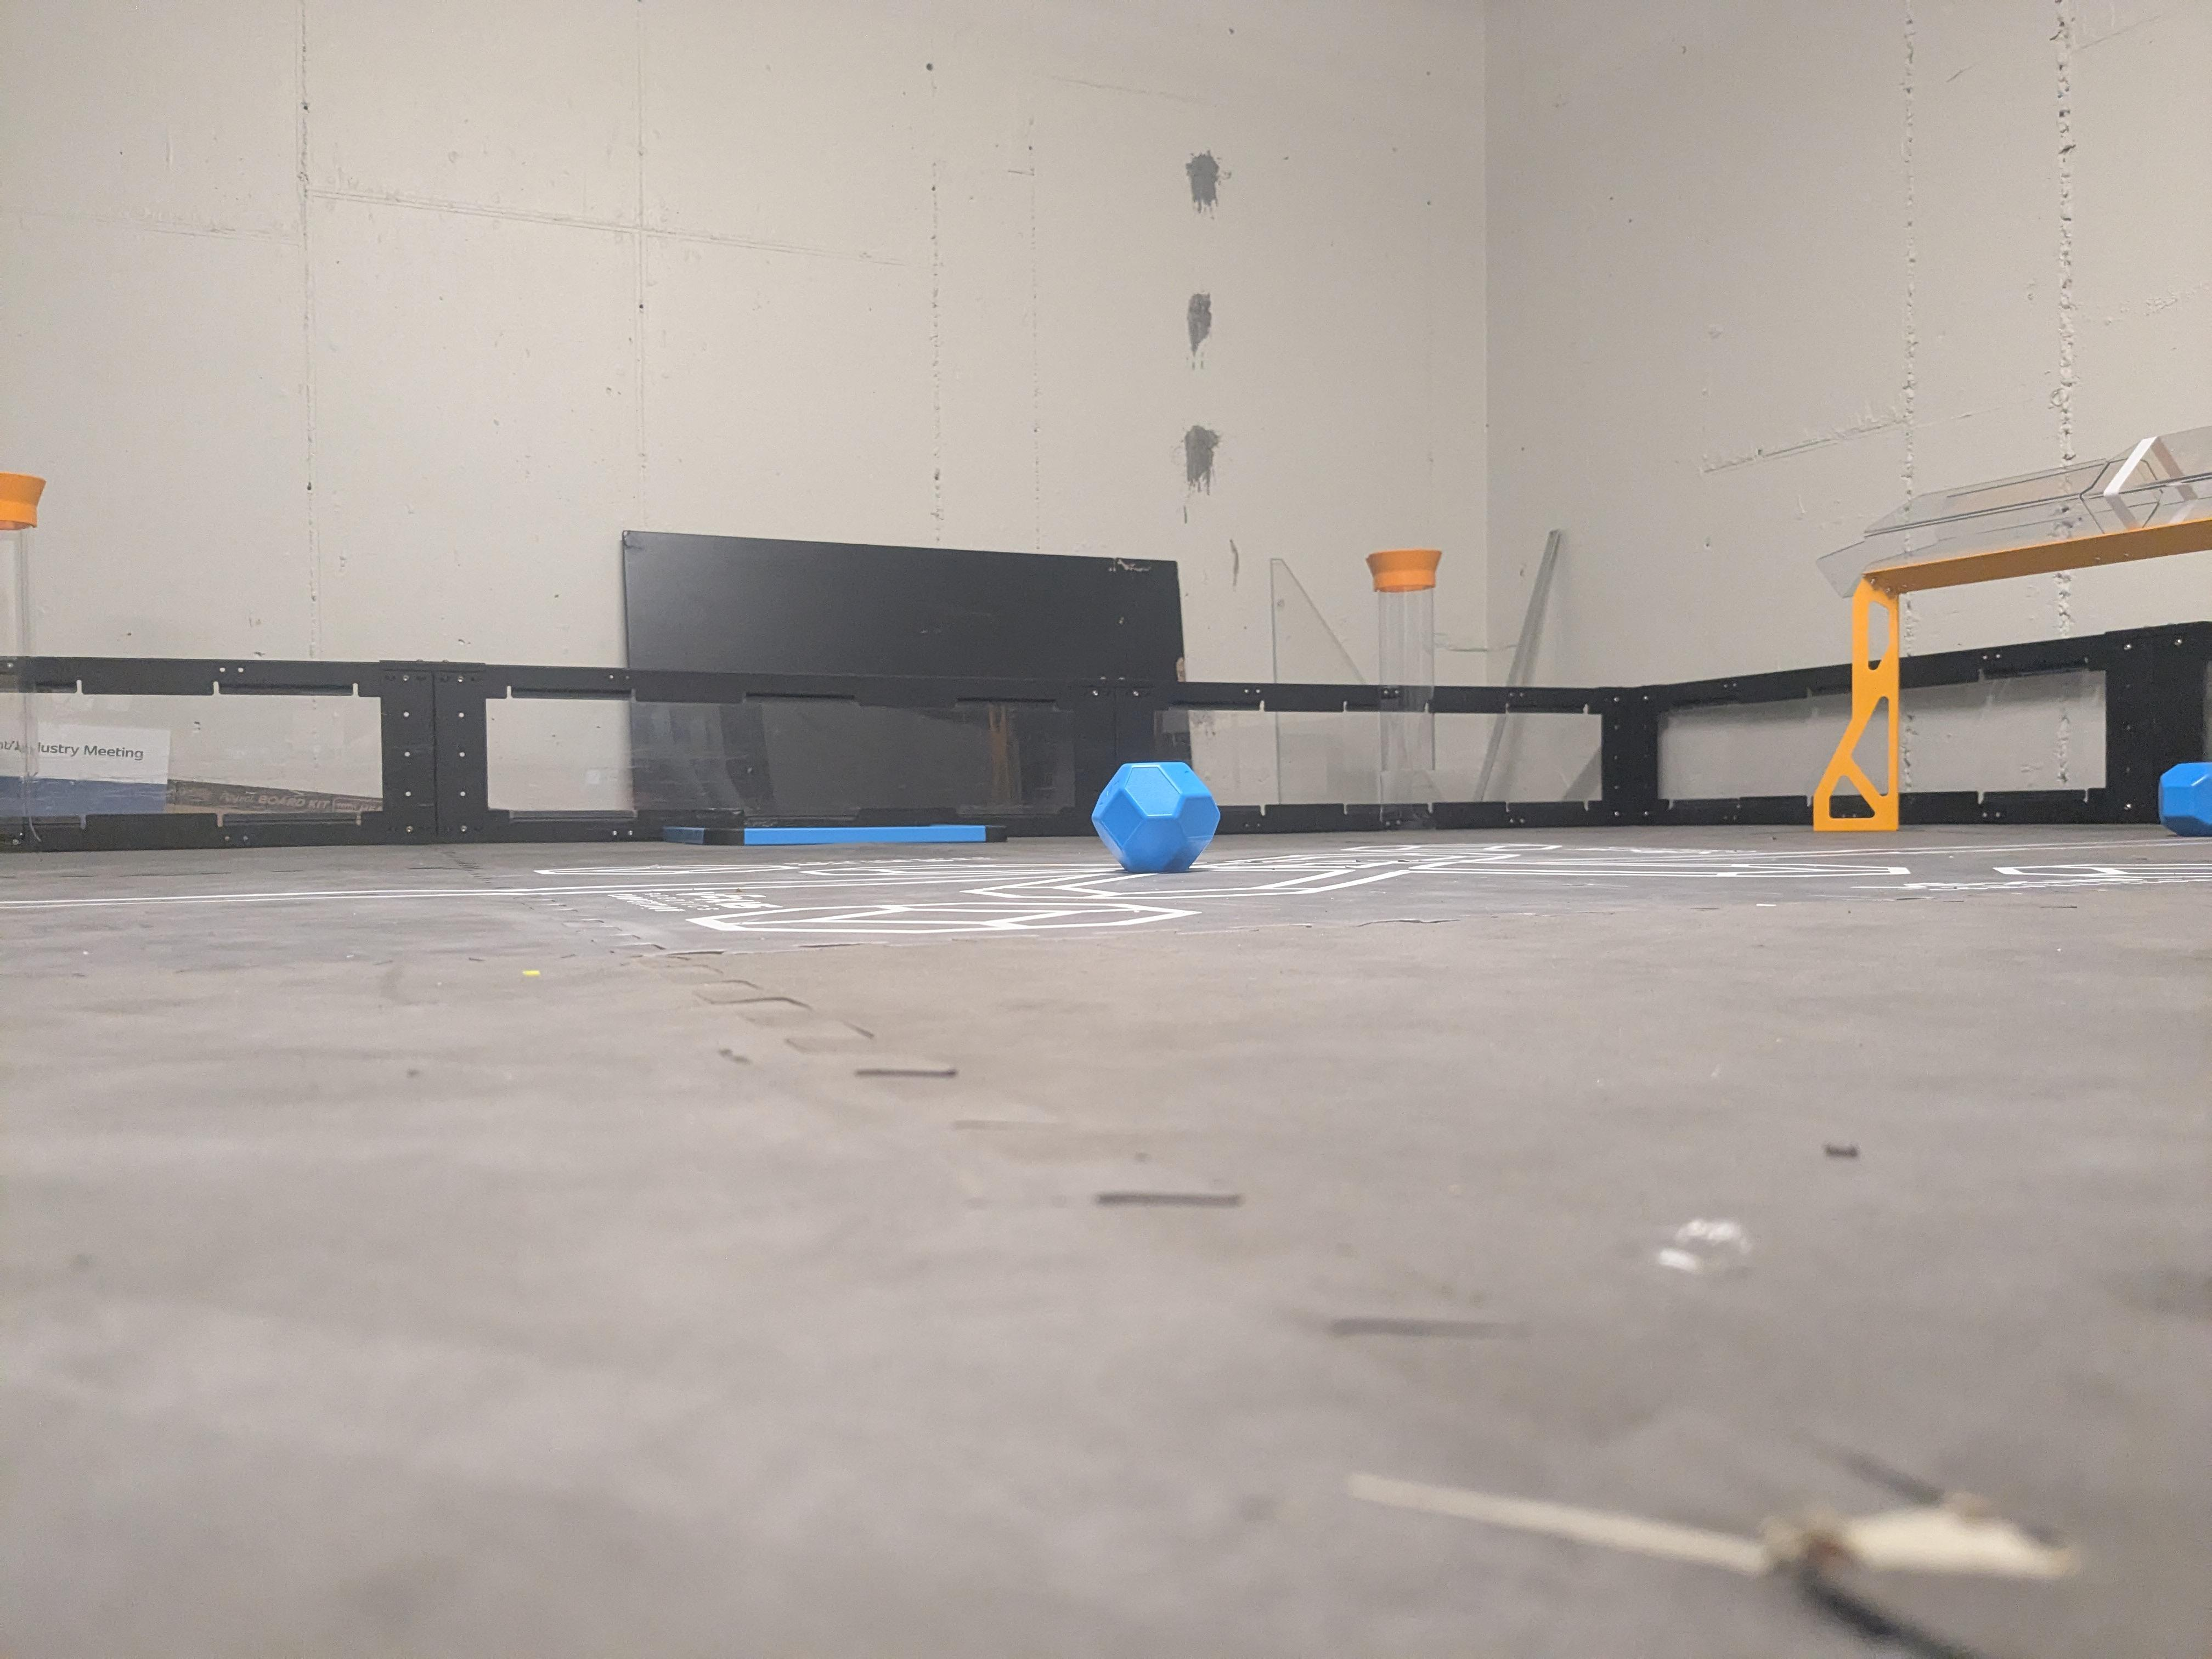Vex-Pieces-BLUE: (1096, 765, 1216, 868), (2156, 762, 2207, 836)
